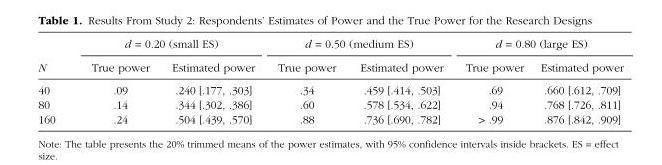table: (37, 36, 622, 125)
table column: (347, 36, 453, 125), (160, 36, 265, 125), (531, 36, 622, 125), (72, 36, 160, 125), (265, 36, 347, 125), (453, 36, 531, 125), (37, 36, 72, 125)
table column header: (37, 36, 622, 78)
table row: (37, 55, 622, 78), (37, 36, 622, 55), (37, 78, 622, 97), (37, 97, 622, 111), (37, 111, 622, 125)
table spanning cell: (72, 36, 265, 55), (265, 36, 453, 55), (453, 36, 622, 55), (37, 36, 72, 78)
